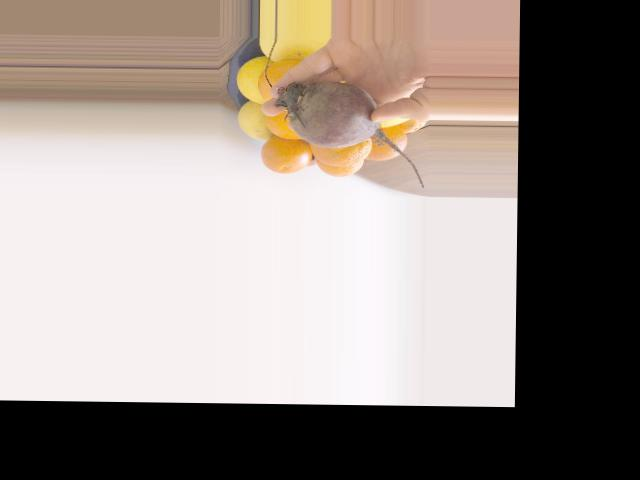beet: (275, 80, 424, 187)
